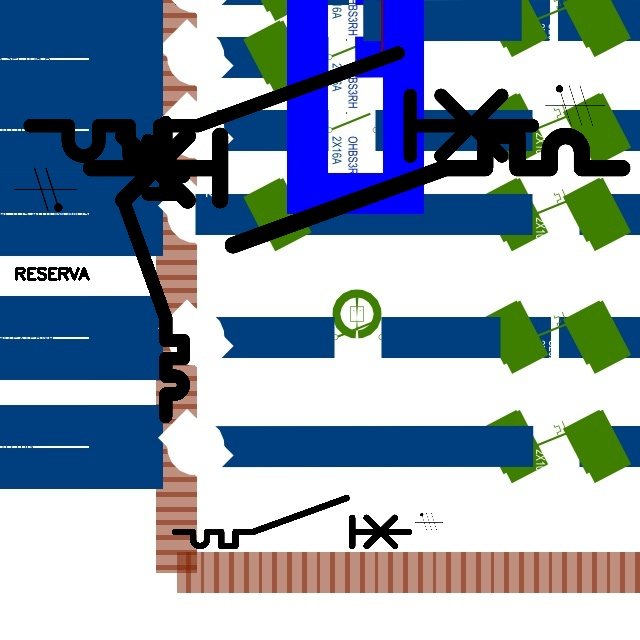interruptor_termomagnetico: (77, 122, 635, 258), (17, 40, 545, 169), (116, 115, 191, 424), (169, 492, 415, 552)
